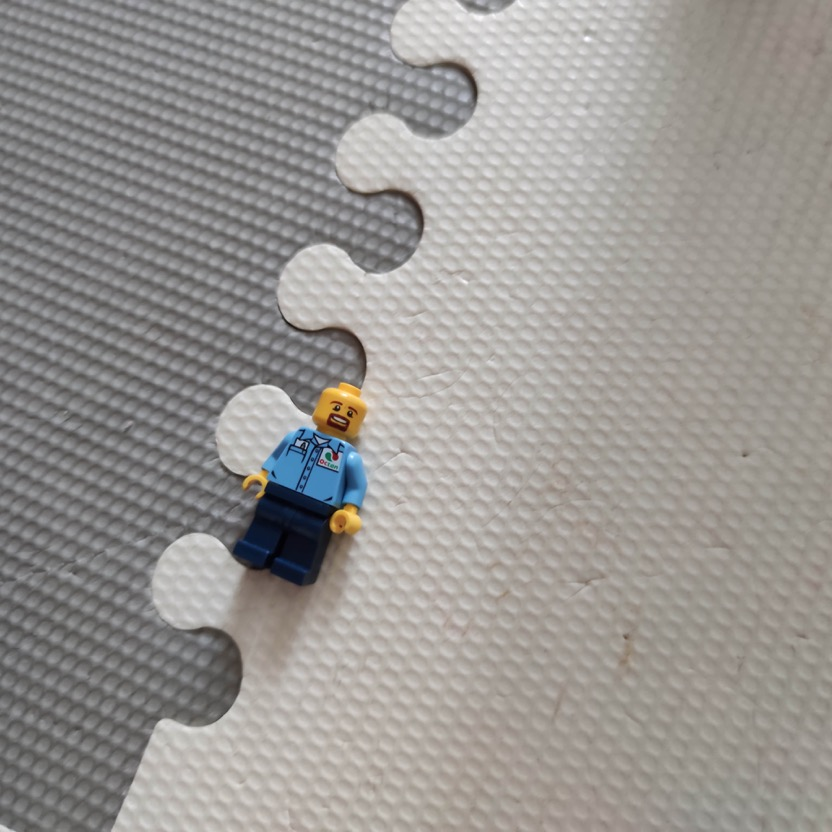lego: (230, 381, 370, 589)
